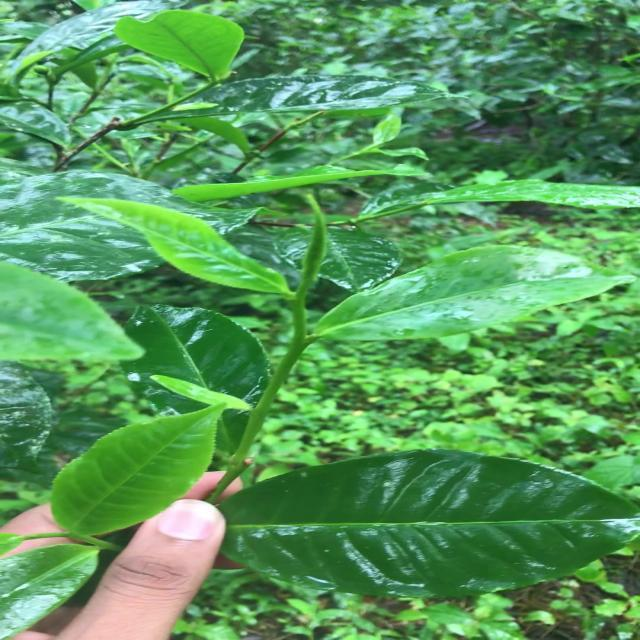Stem: (295, 336, 305, 349)
